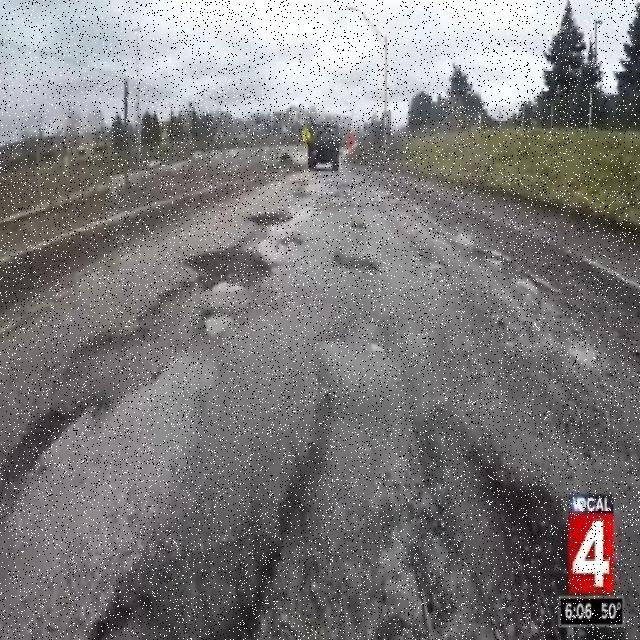pothole: (8, 409, 72, 487), (196, 254, 267, 299), (205, 308, 233, 345)
